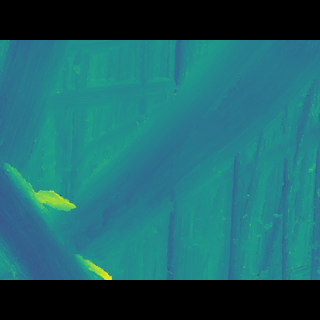Loch: (0, 71, 320, 249)
